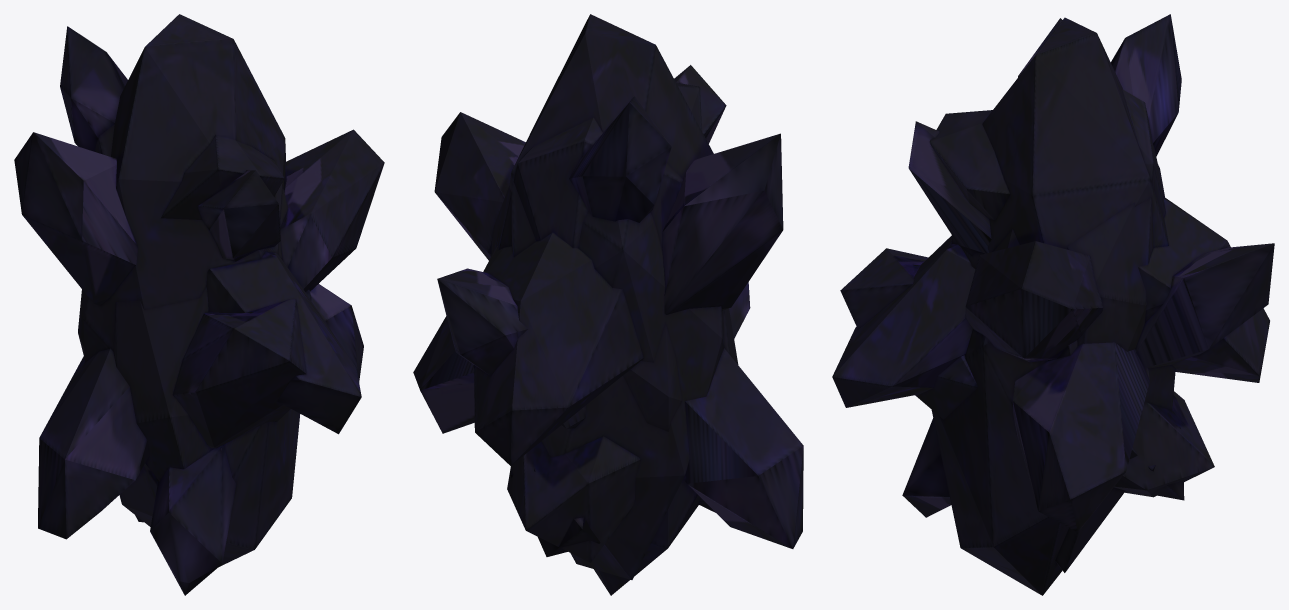
The model's file is cristal_con_textura.fbx.
The picture shows the model from 3 angles, left to right: view 1: azimuth 30°, elevation 25°; view 2: azimuth 150°, elevation 25°; view 3: azimuth 270°, elevation 25°; orthographic projection. The views are drawn at different scales.
Parts seen in each view (by area): view 1: Cristal; view 2: Cristal; view 3: Cristal.
Boxes of the visible parts, <box> form: Cristal: <box>14,14,384,595</box>; Cristal: <box>413,14,803,595</box>; Cristal: <box>832,14,1274,595</box>.
Bounding box in the file's own units: 12.32 × 18.57 × 13.25.
Materials: 1 (1 with a texture image).
